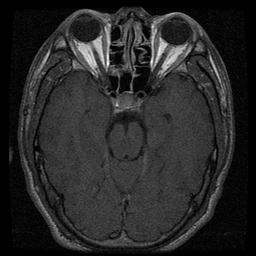Tumour-Pituitary: (109, 91, 149, 115)
